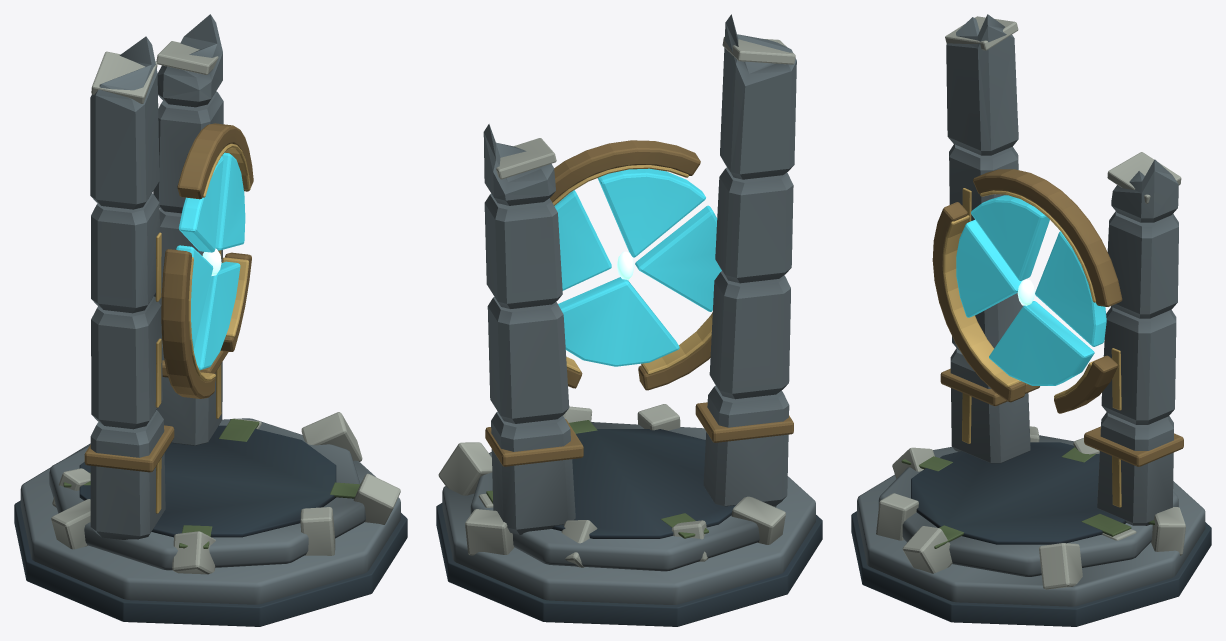
The model's file is skyreach-fallen-beacon-v1.glb.
The picture shows the model from 3 angles, left to right: view 1: azimuth 30°, elevation 25°; view 2: azimuth 150°, elevation 25°; view 3: azimuth 270°, elevation 25°; orthographic projection. The views are drawn at different scales.
Visible parts, largest first — view 1: GB_BEACON_Stone, GB_BEACON_Recess, GB_BEACON_Fracture, GB_BEACON_Bronze, GB_BEACON_Lens, GB_BEACON_Inlay, GB_BEACON_Moss; view 2: GB_BEACON_Stone, GB_BEACON_Recess, GB_BEACON_Lens, GB_BEACON_Fracture, GB_BEACON_Bronze, GB_BEACON_Inlay, GB_BEACON_Moss; view 3: GB_BEACON_Stone, GB_BEACON_Recess, GB_BEACON_Lens, GB_BEACON_Bronze, GB_BEACON_Fracture, GB_BEACON_Inlay, GB_BEACON_Moss.
Part boxes in pixels (x1=…): GB_BEACON_Stone: x1=20, y1=14, x2=400, y2=604; GB_BEACON_Recess: x1=14, y1=425, x2=407, y2=626; GB_BEACON_Fracture: x1=51, y1=41, x2=400, y2=574; GB_BEACON_Bronze: x1=84, y1=123, x2=253, y2=472; GB_BEACON_Lens: x1=176, y1=152, x2=245, y2=370; GB_BEACON_Inlay: x1=155, y1=143, x2=250, y2=513; GB_BEACON_Moss: x1=63, y1=419, x2=360, y2=548; GB_BEACON_Stone: x1=442, y1=14, x2=815, y2=604; GB_BEACON_Recess: x1=436, y1=429, x2=822, y2=626; GB_BEACON_Lens: x1=554, y1=168, x2=721, y2=366; GB_BEACON_Fracture: x1=438, y1=36, x2=795, y2=567; GB_BEACON_Bronze: x1=485, y1=140, x2=793, y2=466; GB_BEACON_Inlay: x1=552, y1=165, x2=712, y2=374; GB_BEACON_Moss: x1=486, y1=420, x2=708, y2=538; GB_BEACON_Stone: x1=857, y1=14, x2=1205, y2=606; GB_BEACON_Recess: x1=851, y1=442, x2=1211, y2=626; GB_BEACON_Lens: x1=956, y1=195, x2=1106, y2=385; GB_BEACON_Bronze: x1=932, y1=169, x2=1183, y2=466; GB_BEACON_Fracture: x1=876, y1=16, x2=1185, y2=589; GB_BEACON_Inlay: x1=943, y1=188, x2=1121, y2=507; GB_BEACON_Moss: x1=901, y1=447, x2=1154, y2=548.
Bounding box in the file's own units: 3.22 × 4.9 × 3.2.
